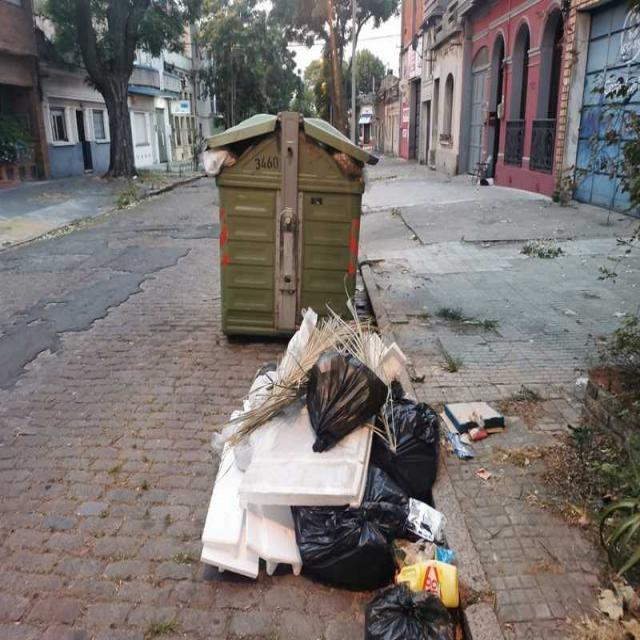garbage: (193, 270, 508, 639), (326, 142, 374, 182), (202, 140, 238, 172)
